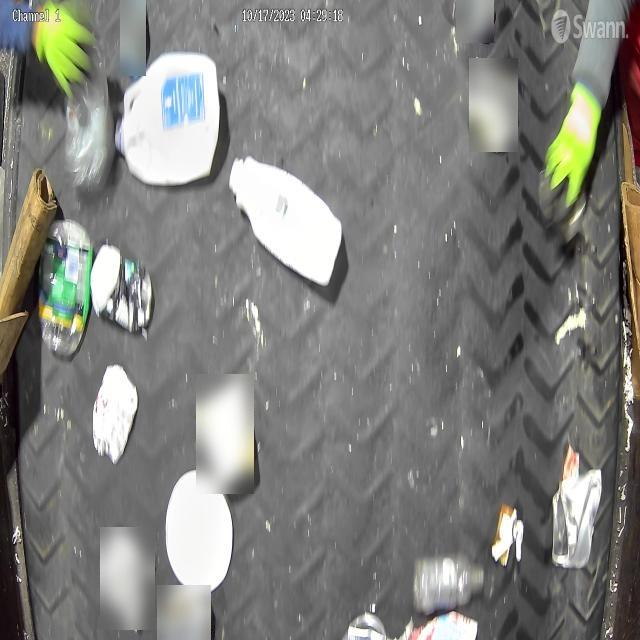milk_jug: (114, 54, 218, 186)
plastic_bottle: (412, 550, 487, 614)
